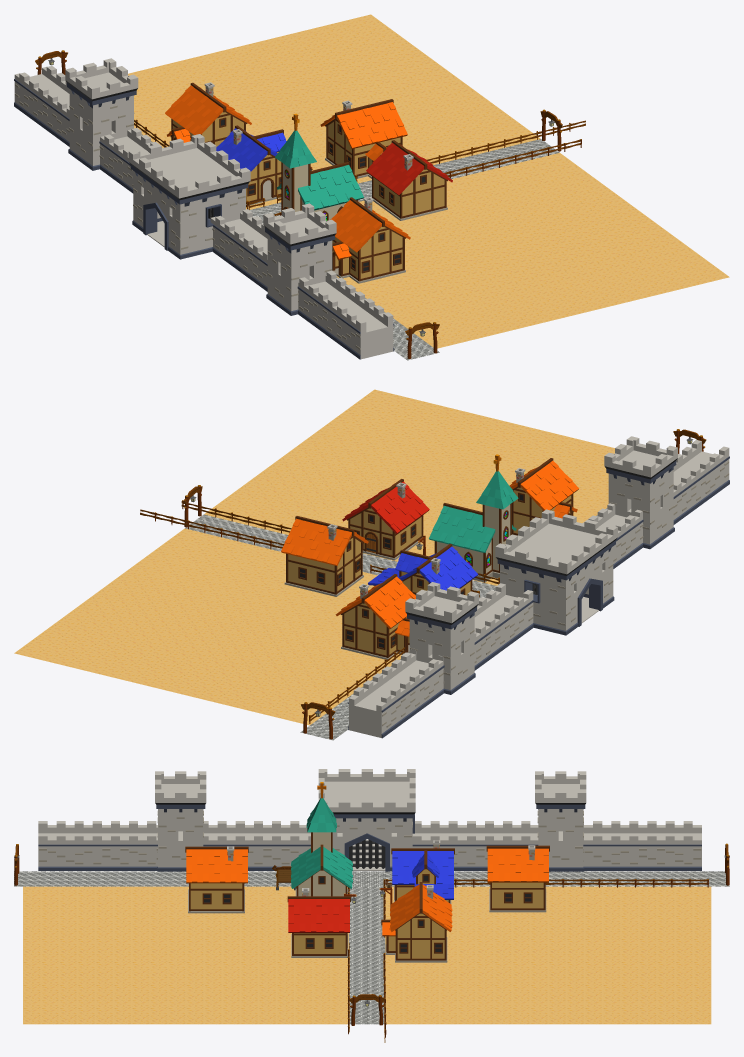
File: ___map.fbx
The picture shows the model from 3 angles, top to bottom: view 1: azimuth 30°, elevation 25°; view 2: azimuth 150°, elevation 25°; view 3: azimuth 270°, elevation 25°; orthographic projection. The views are drawn at different scales.
Visible parts, largest first — view 1: Floor_Soil_01.001, Floor_Soil_01, Rampart_Gate_01, Rampart_DefensiveTower_01, Rampart_DefensiveTower_01.001, Rampart_Corridor_01.001, House_03.001, House_01, Church_01.001, House_03.002, House_03, House_02 (+7 smaller); view 2: Floor_Soil_01, Floor_Soil_01.001, Rampart_Gate_01, Rampart_DefensiveTower_01.001, Rampart_DefensiveTower_01, Rampart_Corridor_01.002, House_03.002, Church_01.001, House_03, House_01, Rampart_Corridor_01, House_03.001 (+6 smaller); view 3: Floor_Soil_01.001, Floor_Soil_01, Rampart_Gate_01, Rampart_Corridor_01.001, Rampart_Corridor_01.002, Floor_StonePaving_01, Rampart_DefensiveTower_01.001, House_03.002, Rampart_DefensiveTower_01, House_03, House_03.001, Church_01.001 (+9 smaller).
Boxes of the visible parts, x1,y1,x2,y2 form: Floor_Soil_01.001: (336, 153, 729, 348); Floor_Soil_01: (128, 14, 540, 209); Rampart_Gate_01: (128, 134, 250, 259); Rampart_DefensiveTower_01: (263, 203, 336, 315); Rampart_DefensiveTower_01.001: (65, 58, 138, 170); Rampart_Corridor_01.001: (297, 270, 394, 359); House_03.001: (330, 197, 410, 283); House_01: (366, 140, 452, 220); Church_01.001: (275, 113, 363, 220); House_03.002: (320, 99, 407, 178); House_03: (165, 82, 251, 146); House_02: (216, 125, 286, 205); Floor_Soil_01: (14, 528, 401, 725); Floor_Soil_01.001: (204, 389, 614, 585); Rampart_Gate_01: (495, 509, 617, 635); Rampart_DefensiveTower_01.001: (405, 582, 478, 694); Rampart_DefensiveTower_01: (604, 436, 677, 549); Rampart_Corridor_01.002: (348, 649, 444, 738); House_03.002: (281, 516, 368, 596); Church_01.001: (429, 454, 518, 582); House_03: (335, 574, 415, 659); House_01: (342, 479, 429, 560); Rampart_Corridor_01: (474, 583, 533, 670); House_03.001: (509, 458, 578, 535); Floor_Soil_01.001: (23, 886, 348, 1024); Floor_Soil_01: (385, 886, 711, 1024); Rampart_Gate_01: (318, 769, 415, 871); Rampart_Corridor_01.001: (38, 821, 157, 870); Rampart_Corridor_01.002: (583, 821, 701, 870); Floor_StonePaving_01: (349, 871, 385, 1024); Rampart_DefensiveTower_01.001: (535, 771, 586, 871); House_03.002: (381, 882, 452, 962); Rampart_DefensiveTower_01: (155, 771, 206, 871); House_03: (486, 845, 549, 912); House_03.001: (185, 846, 248, 913); Church_01.001: (291, 782, 352, 896).
Bounding box in the file's own units: 5393 × 1360 × 7905.
39 materials, 39 textured.
